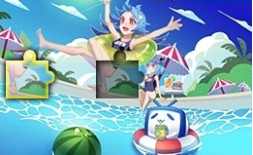gap: (96, 51, 144, 98)
